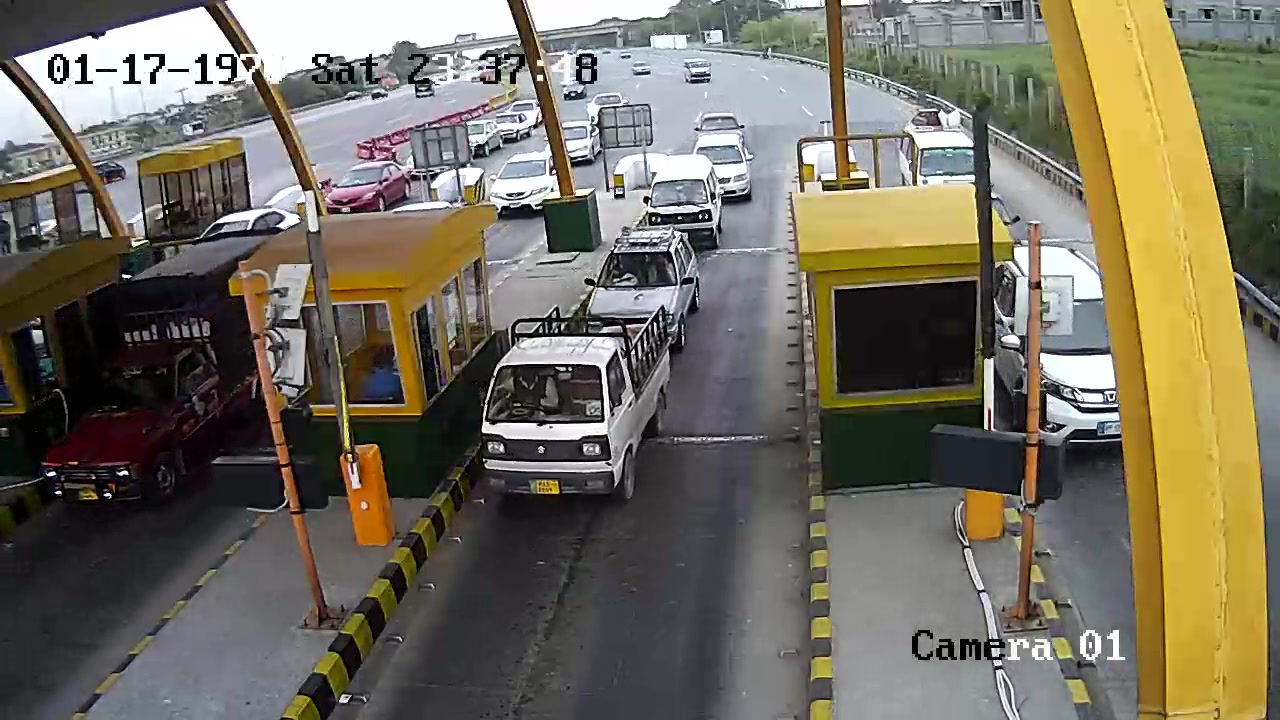F1: (480, 302, 681, 513)
